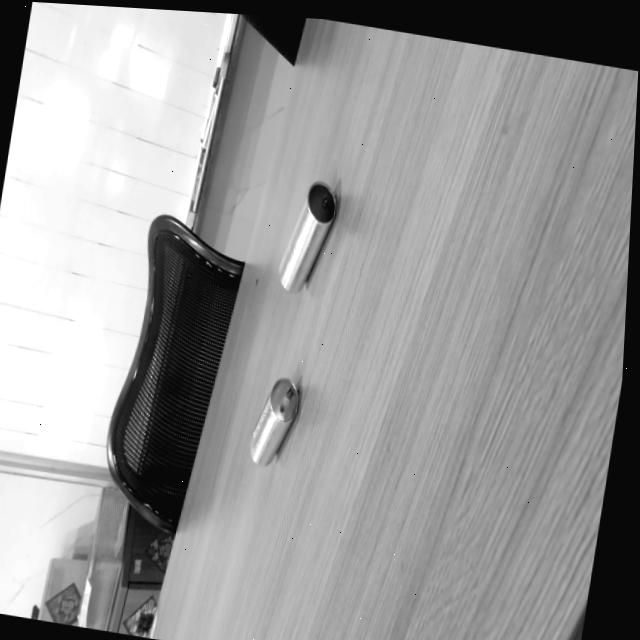Co_Lon: (271, 178, 345, 296)
Co_Nho: (239, 374, 309, 469)
